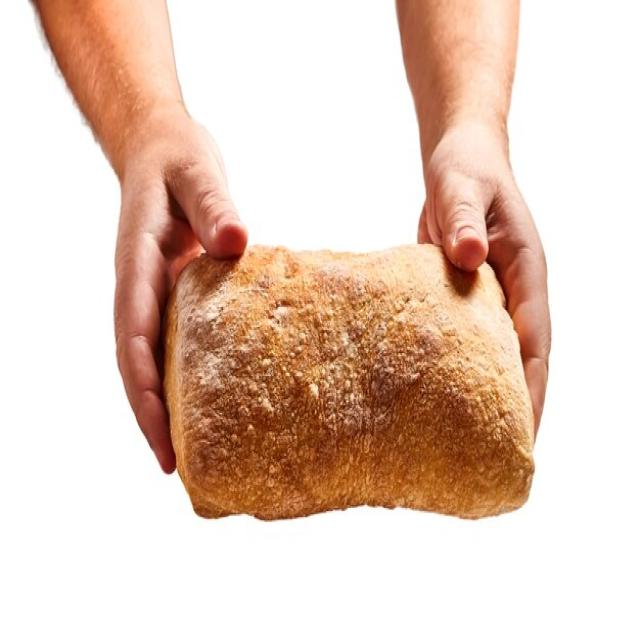Ciabatta: (164, 245, 534, 520)
